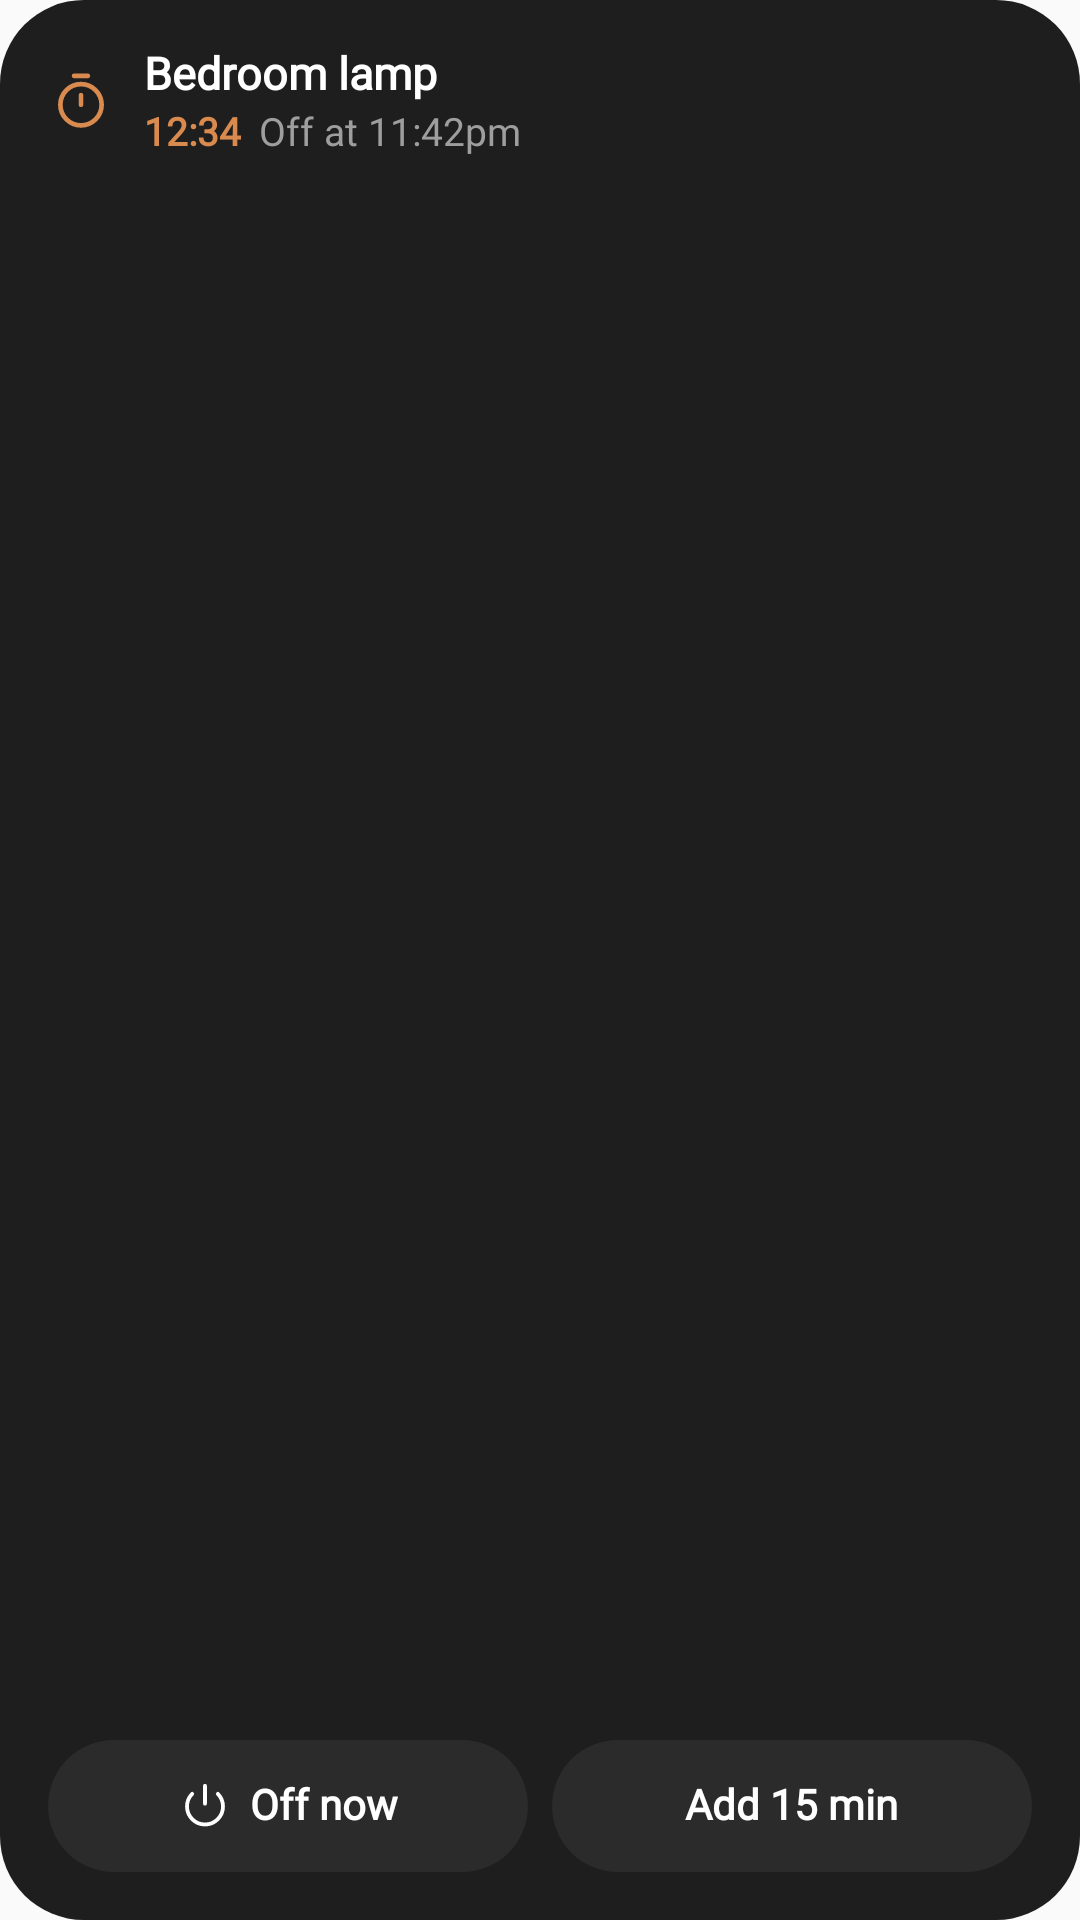

Screen size 1080 x 1920. Icon name, then its center in pixels as (x,y):
wi timer: (81,100)
